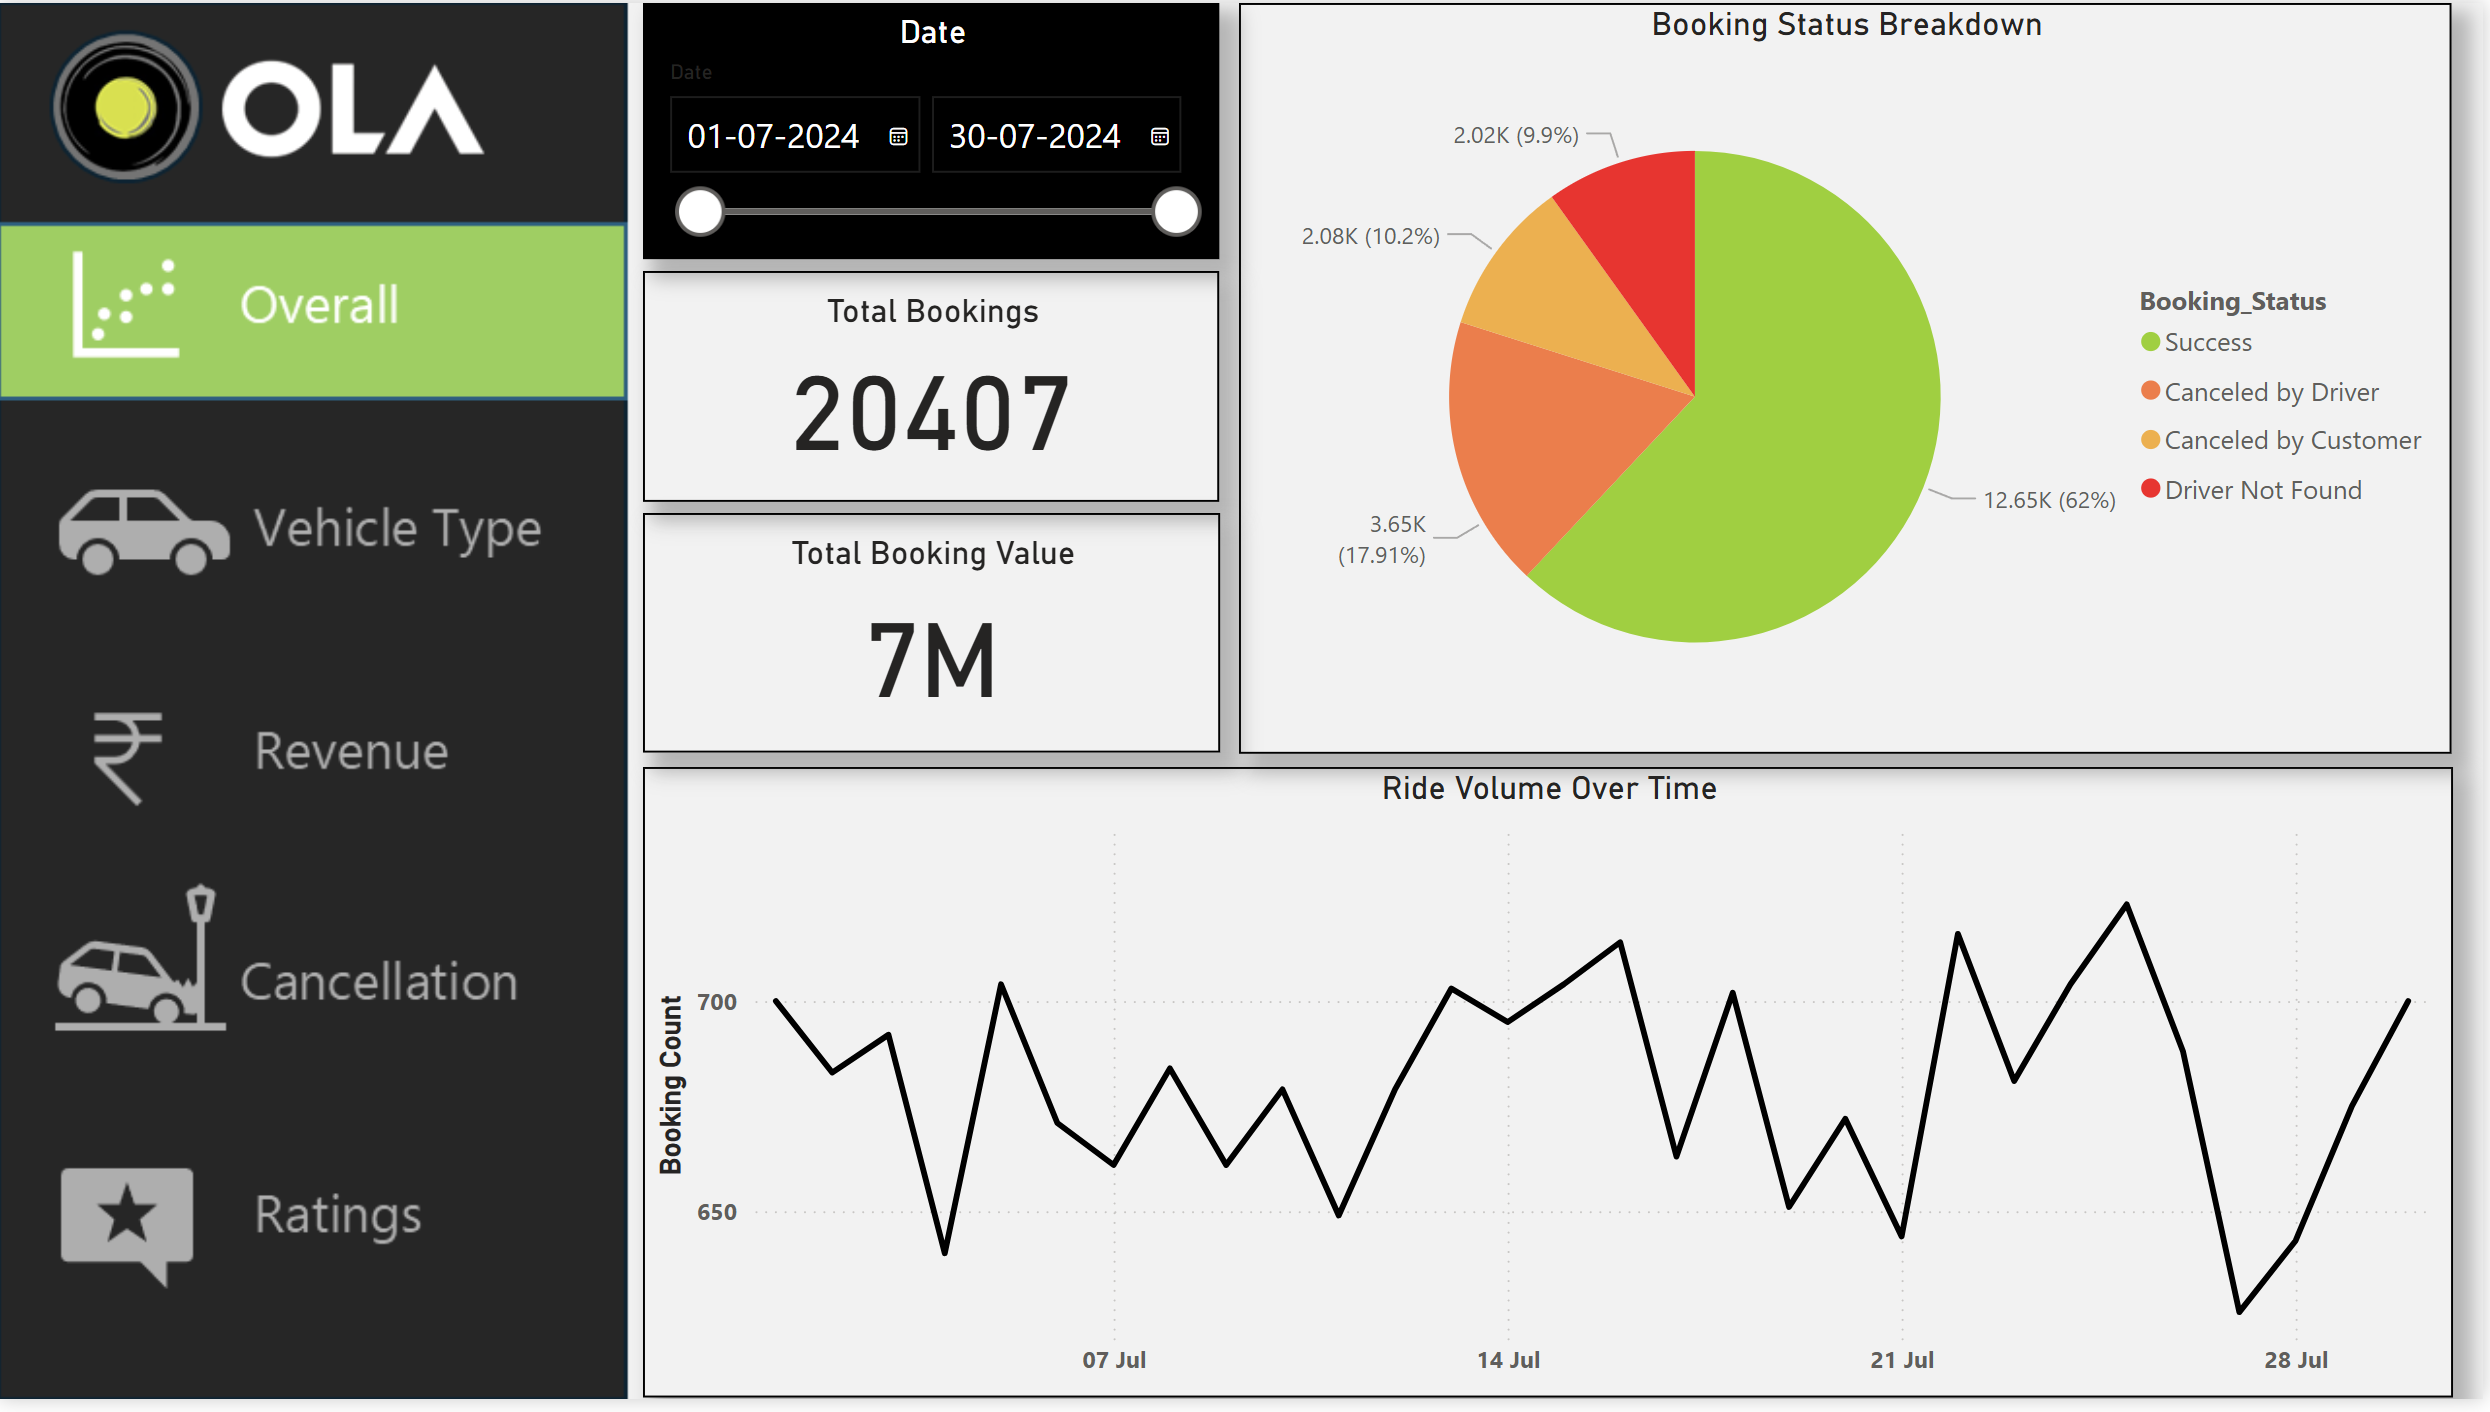

This screenshot's page, from the dashboard's own definition file:
{"tool":"powerbi","page":{"name":"Overall","canvas":[1280,720],"ordinal":0},"visuals":[{"type":"actionButton","box":[0,228.4,325,92],"z":0},{"type":"actionButton","box":[0,339.8,325,92],"z":1000},{"type":"actionButton","box":[0,456.8,325,92],"z":2000},{"type":"actionButton","box":[0,581.8,325,92],"z":3000},{"type":"lineChart","title":" Ride Volume Over Time","fields":{"Y":["CountNonNull(July.Booking_ID)"],"Category":["July.Date"]},"box":[331.6,393.4,932.9,325],"z":4000},{"type":"pieChart","title":" Booking Status Breakdown","fields":{"Category":["July.Booking_Status"],"Y":["CountNonNull(July.Booking_Status)"]},"box":[639.5,0,625,386.8],"z":5000},{"type":"slicer","title":"Date","fields":{"Values":["July.Date"]},"box":[332,0,297,132],"z":6000},{"type":"card","title":"Total Bookings","fields":{"Values":["CountNonNull(July.Booking_ID)"]},"box":[332,138,297,119],"z":7000},{"type":"card","title":"Total Booking Value","fields":{"Values":["Sum(July.Booking_Value)"]},"box":[331.6,263.2,297.4,123.7],"z":8000}]}

Visuals, with their boxes in screenshot pixels (x1, y1, x2, y2), scaled from the page's 1280x720 canvas onto the 2490x1412 screenshot:
actionButton: <bbox>0, 448, 632, 628</bbox>
actionButton: <bbox>0, 666, 632, 847</bbox>
actionButton: <bbox>0, 896, 632, 1076</bbox>
actionButton: <bbox>0, 1141, 632, 1321</bbox>
" Ride Volume Over Time" lineChart: <bbox>645, 772, 2460, 1409</bbox>
" Booking Status Breakdown" pieChart: <bbox>1244, 0, 2460, 759</bbox>
"Date" slicer: <bbox>646, 0, 1224, 259</bbox>
"Total Bookings" card: <bbox>646, 271, 1224, 504</bbox>
"Total Booking Value" card: <bbox>645, 516, 1224, 759</bbox>
